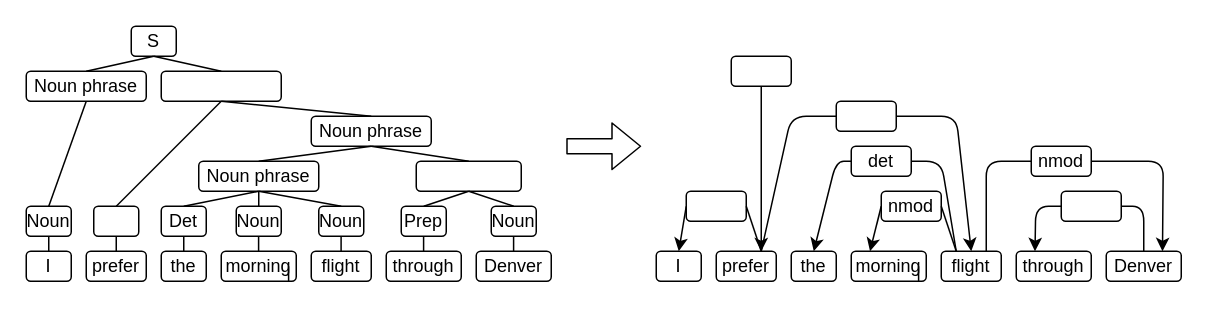
Some shapes in this 1208 by 309 pixel diagram are drawn without their labels. Here are the shapes that lost their labels. From the top down, the centre of each, then its label:
At (220,85): "Verb phrase".
At (760,70): "root".
At (865,115): "dobj".
At (468,175): "Prep Phrase".
At (115,220): "Verb".
At (715,205): "nsubj".
At (1090,205): "case".
